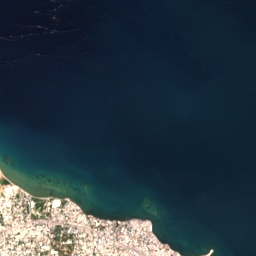Marine Debris: (0, 0, 76, 50)
